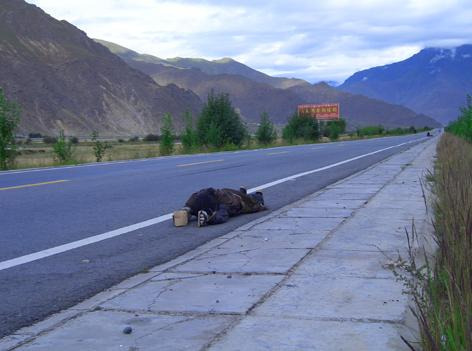fall: (168, 179, 270, 231)
